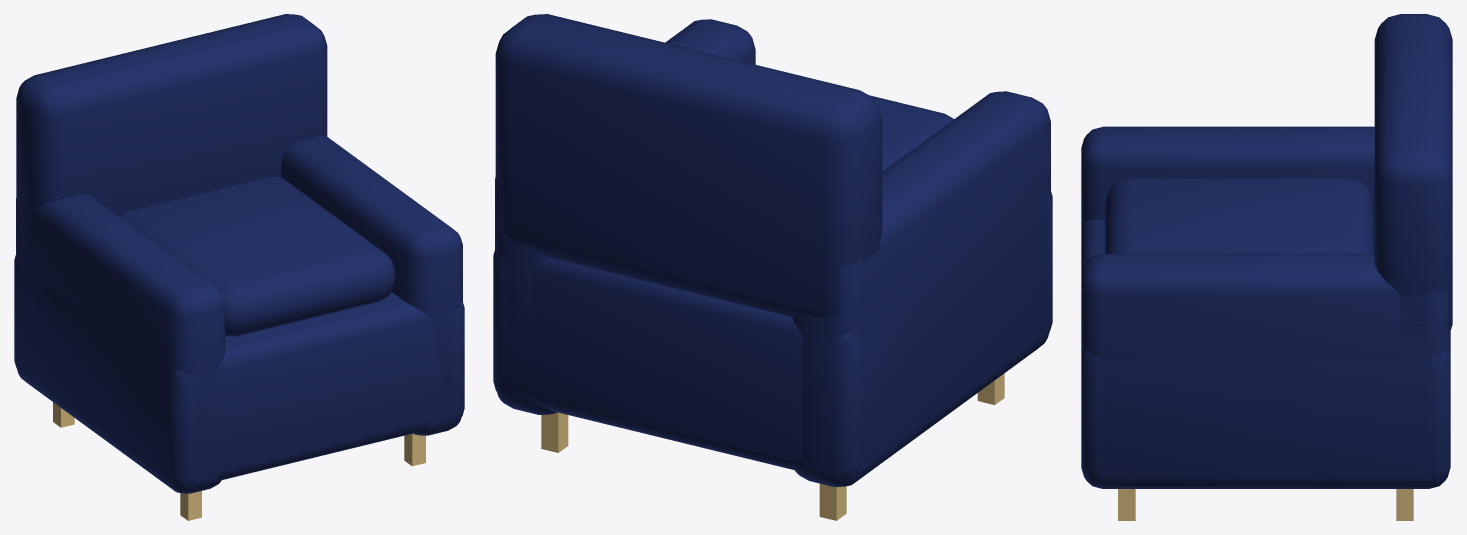
File: fur_armchair_royal.glb
3 views of the same model, side by side, from view 1: azimuth 30°, elevation 25°; view 2: azimuth 150°, elevation 25°; view 3: azimuth 270°, elevation 25° (orthographic). The views are drawn at different scales.
Visible parts, largest first — view 1: FUR_armchair_royal; view 2: FUR_armchair_royal; view 3: FUR_armchair_royal.
Boxes of the visible parts, <box> form: FUR_armchair_royal: <box>14,14,464,520</box>; FUR_armchair_royal: <box>493,14,1052,520</box>; FUR_armchair_royal: <box>1081,14,1452,520</box>.
Bounding box in the file's own units: 0.85 × 0.95 × 0.855.
